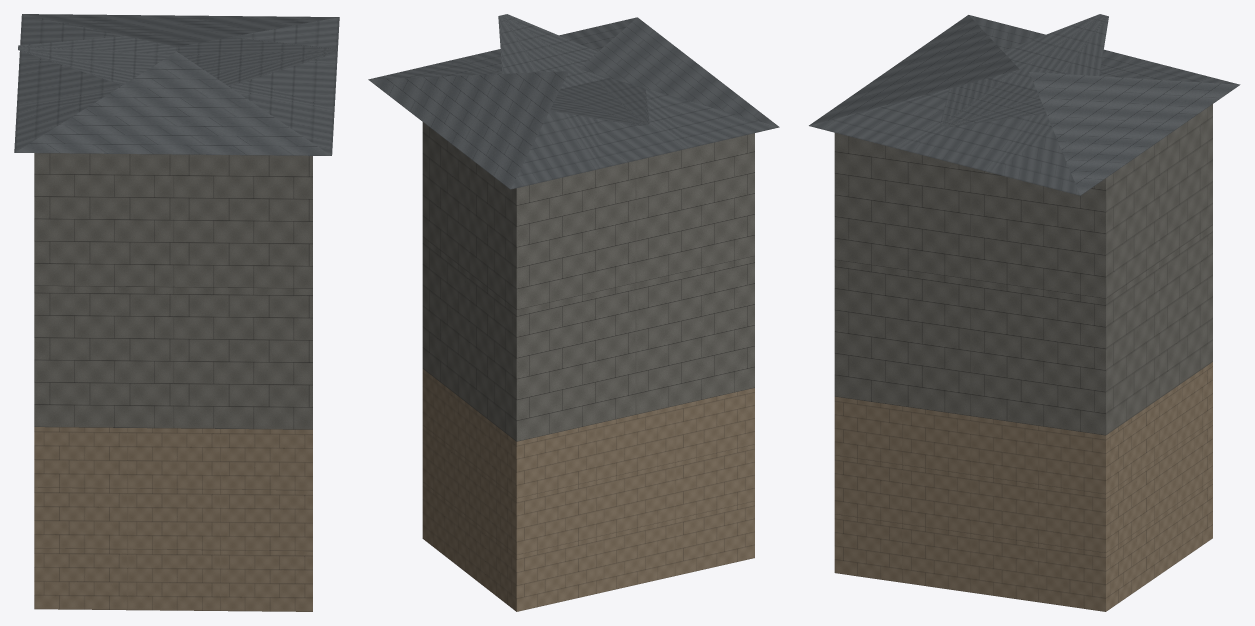
Rendered from bld_c37_-44_374.gltf.
3 views of the same model, side by side, from view 1: azimuth 30°, elevation 25°; view 2: azimuth 150°, elevation 25°; view 3: azimuth 270°, elevation 25° (orthographic). The views are drawn at different scales.
Visible parts, largest first — view 1: bld_c37_-44_374; view 2: bld_c37_-44_374; view 3: bld_c37_-44_374.
Boxes of the visible parts, x1,y1,x2,y2 form: bld_c37_-44_374: (14, 14, 339, 611); bld_c37_-44_374: (368, 14, 779, 611); bld_c37_-44_374: (809, 14, 1240, 611).
Size of the model in its own units: 11.23 by 14 by 11.32.
3 materials, 3 textured.
